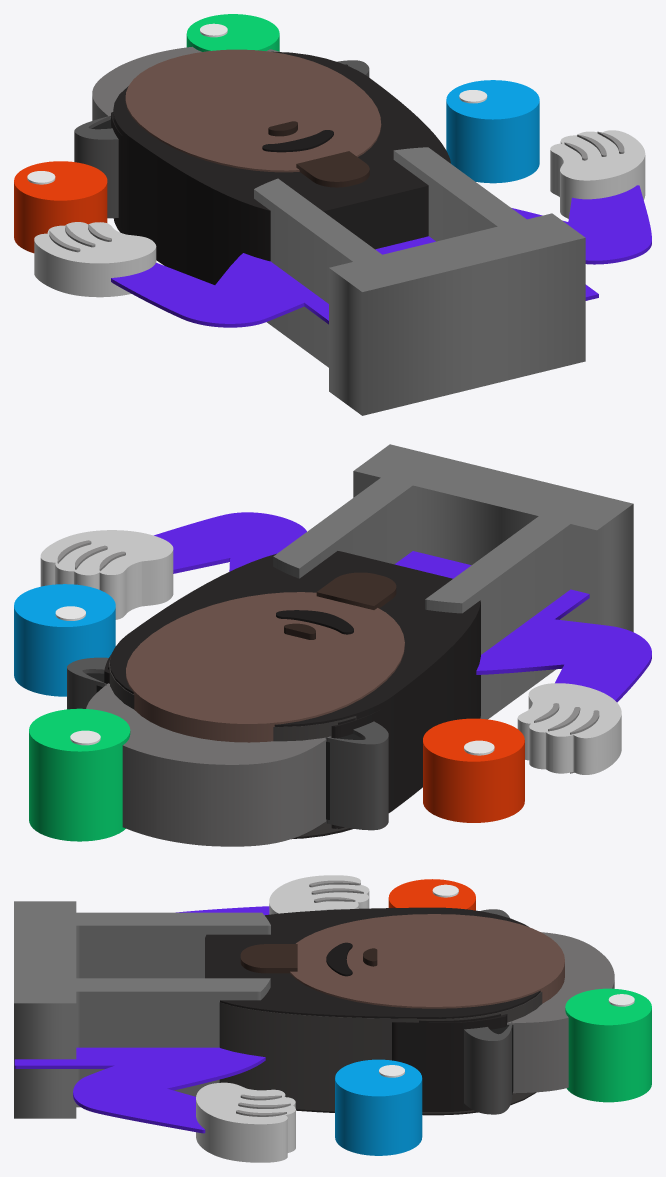
Rendered from emoji_u1f939_1f3ff_200d_2640.glb.
The picture shows the model from 3 angles, top to bottom: view 1: azimuth 30°, elevation 25°; view 2: azimuth 150°, elevation 25°; view 3: azimuth 270°, elevation 25°; orthographic projection. The views are drawn at different scales.
Parts seen in each view (by area): view 1: emoji_u1f939_1f3ff_200d_2640; view 2: emoji_u1f939_1f3ff_200d_2640; view 3: emoji_u1f939_1f3ff_200d_2640.
Part boxes in pixels (bbox=[...]): emoji_u1f939_1f3ff_200d_2640: bbox=[14, 14, 651, 415]; emoji_u1f939_1f3ff_200d_2640: bbox=[14, 444, 651, 846]; emoji_u1f939_1f3ff_200d_2640: bbox=[14, 875, 651, 1162].
Bounding box in the file's own units: 0.0309 × 0.0066 × 0.033.
